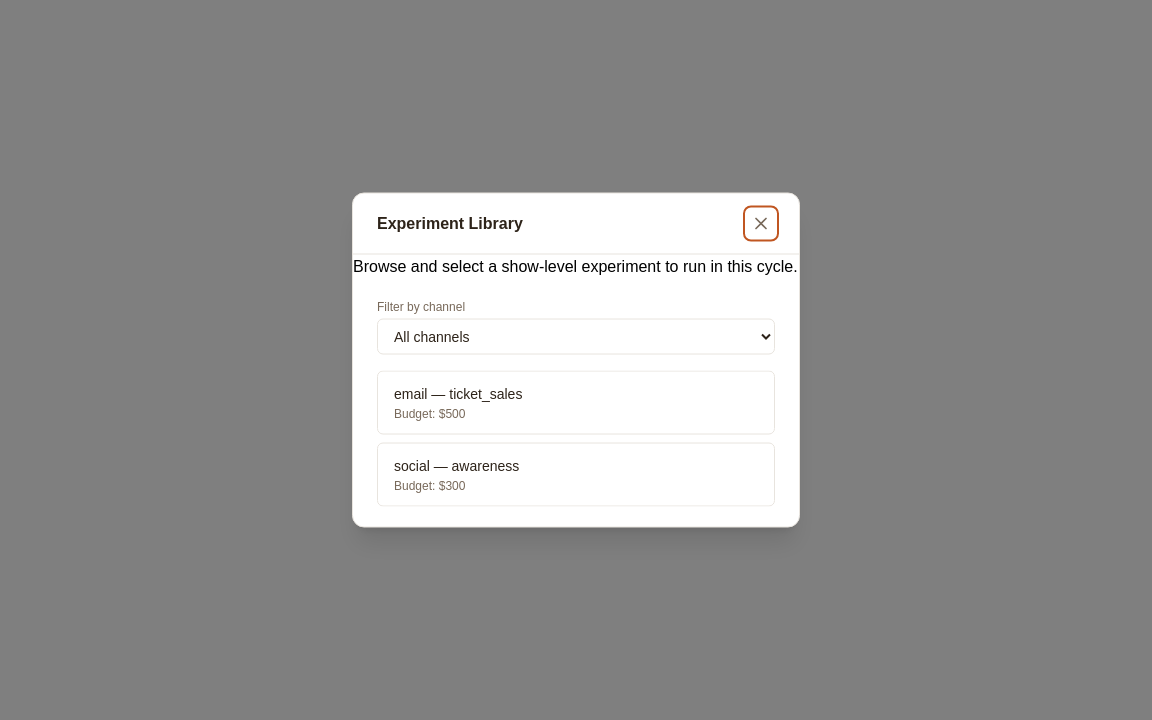
Scenario: ExperimentLibraryModal › filters experiments by channel
This screenshot has width=1152, height=720.
Step 1. Select "email" in the dropdown labelled "Filter by channel" → (576, 336), box left=377, top=318, right=775, bottom=354
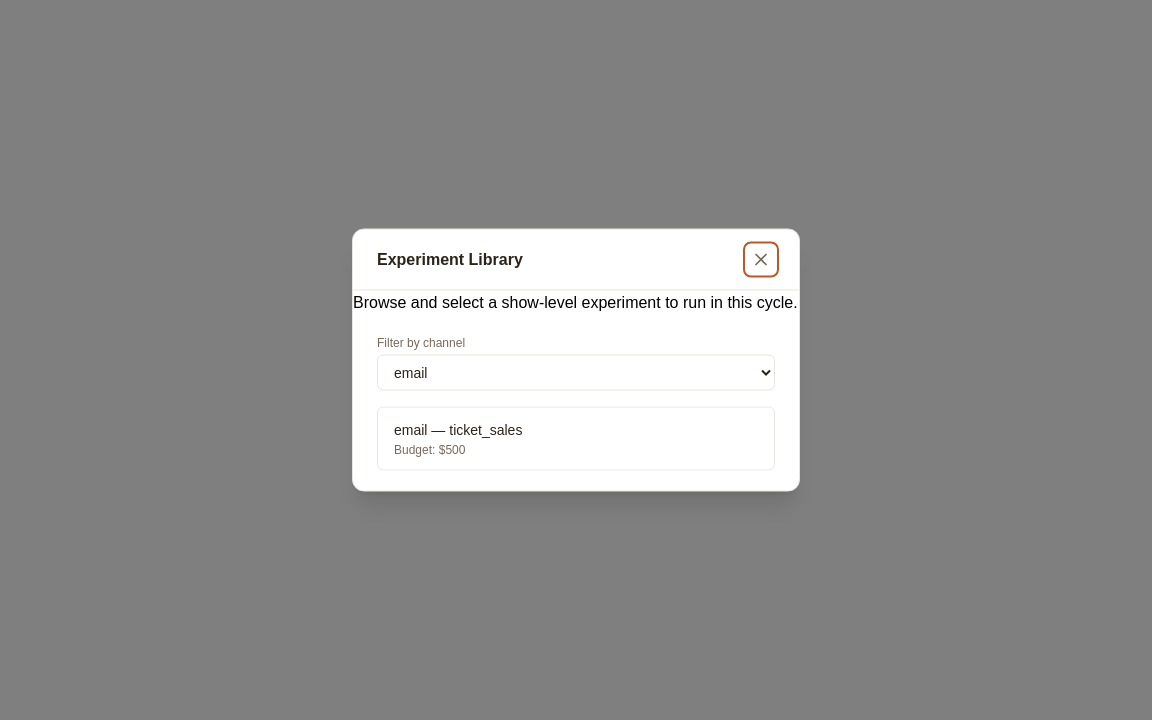
Expected: the text "email — ticket_sales" is shown, left=394, top=422, right=522, bottom=438
Result: the button "social — awareness" is gone
